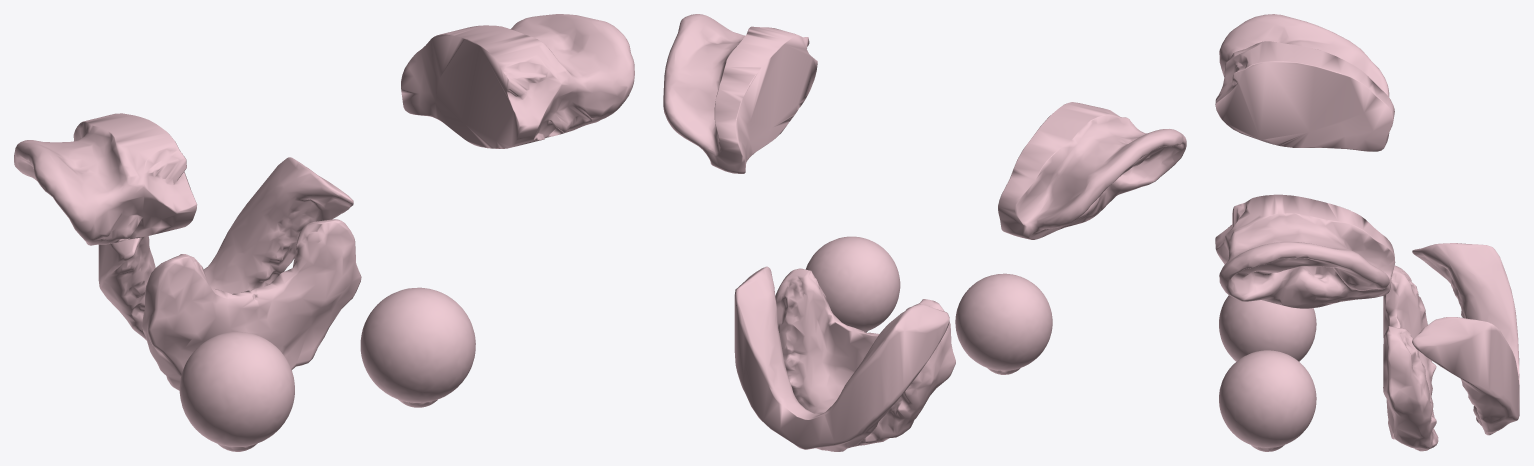
File: organes.glb
The picture shows the model from 3 angles, left to right: view 1: azimuth 30°, elevation 25°; view 2: azimuth 150°, elevation 25°; view 3: azimuth 270°, elevation 25°; orthographic projection. The views are drawn at different scales.
Visible parts, largest first — view 1: oreille, globe_oculaire, gencive_superieure, gencive_inferieure; view 2: oreille, gencive_inferieure, globe_oculaire, gencive_superieure; view 3: oreille, gencive_inferieure, globe_oculaire, gencive_superieure.
Boxes of the visible parts, left/top/right/bottom form: oreille: left=14, top=14, right=634, bottom=245; globe_oculaire: left=179, top=287, right=475, bottom=451; gencive_superieure: left=142, top=219, right=361, bottom=390; gencive_inferieure: left=98, top=157, right=353, bottom=340; oreille: left=663, top=14, right=1186, bottom=239; gencive_inferieure: left=734, top=266, right=949, bottom=451; globe_oculaire: left=805, top=236, right=1052, bottom=374; gencive_superieure: left=775, top=268, right=955, bottom=446; oreille: left=1215, top=14, right=1395, bottom=308; gencive_inferieure: left=1412, top=243, right=1519, bottom=435; globe_oculaire: left=1219, top=295, right=1316, bottom=451; gencive_superieure: left=1383, top=265, right=1438, bottom=451.
Size of the model in its own units: 181 by 110 by 96.26.
